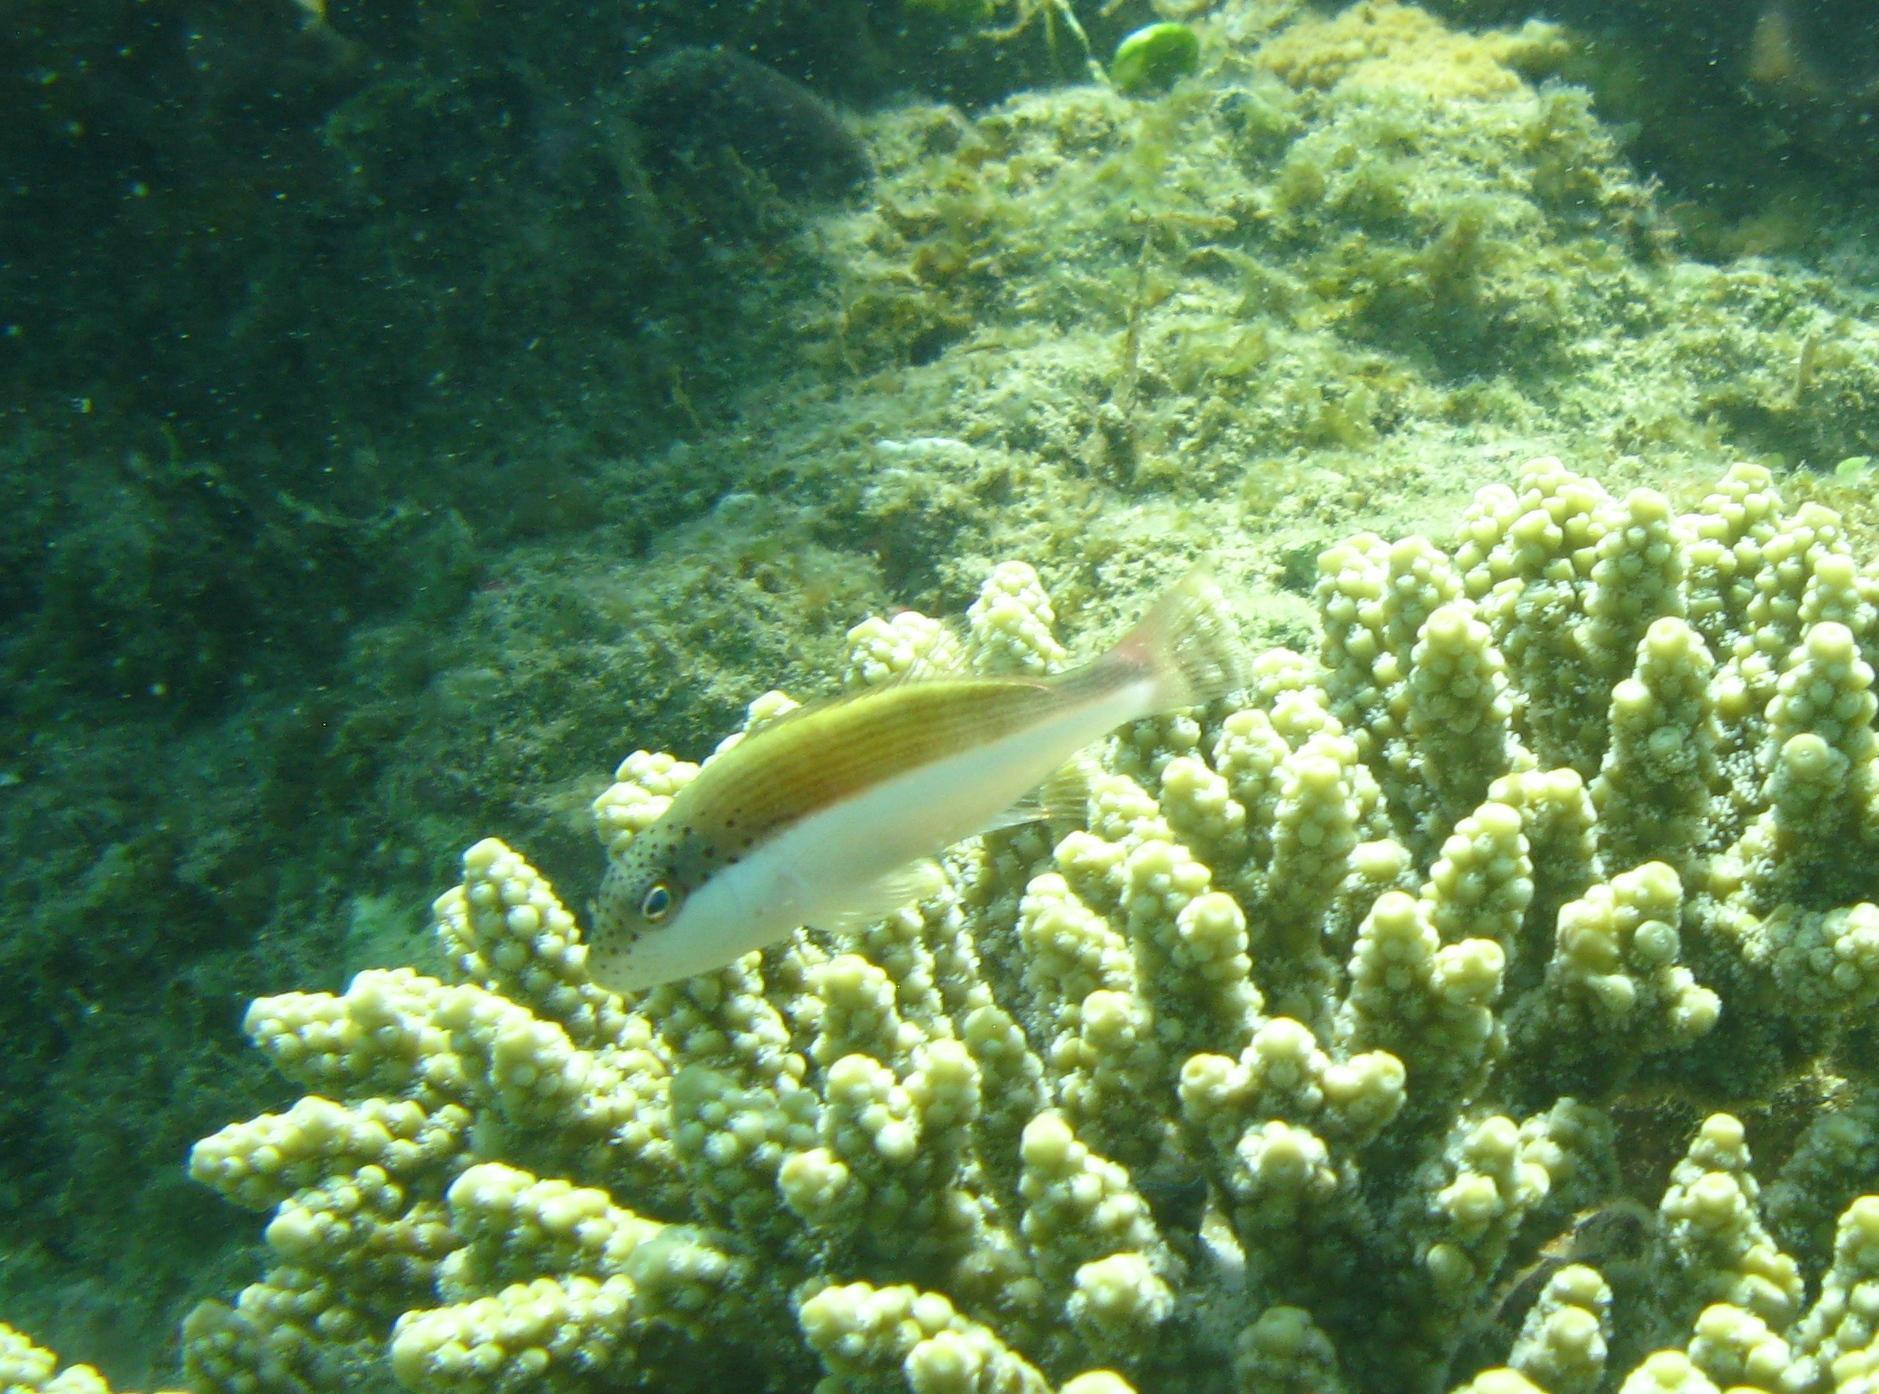Fish: (555, 553, 1207, 1018)
